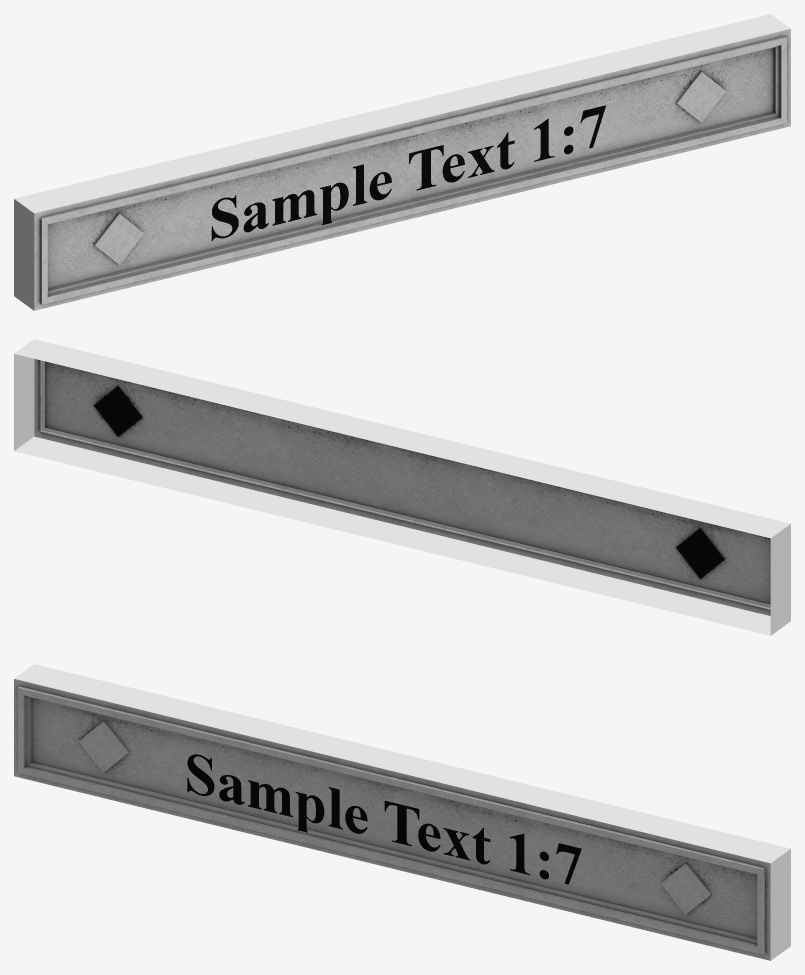
Rendered from name_4.glb.
3 renders of one model, top to bottom at view 1: azimuth 30°, elevation 25°; view 2: azimuth 150°, elevation 25°; view 3: azimuth 330°, elevation 25°, orthographic.
Visible parts, largest first — view 1: name_4, name_4_img; view 2: name_4; view 3: name_4, name_4_img.
Part boxes in pixels (left/top/right/bottom): name_4: left=14, top=14, right=790, bottom=310; name_4_img: left=211, top=105, right=605, bottom=240; name_4: left=14, top=339, right=790, bottom=635; name_4: left=14, top=664, right=790, bottom=960; name_4_img: left=187, top=754, right=581, bottom=884.
Size of the model in its own units: 6.5 by 0.8 by 0.3311.
Materials: 2 (2 with a texture image).
